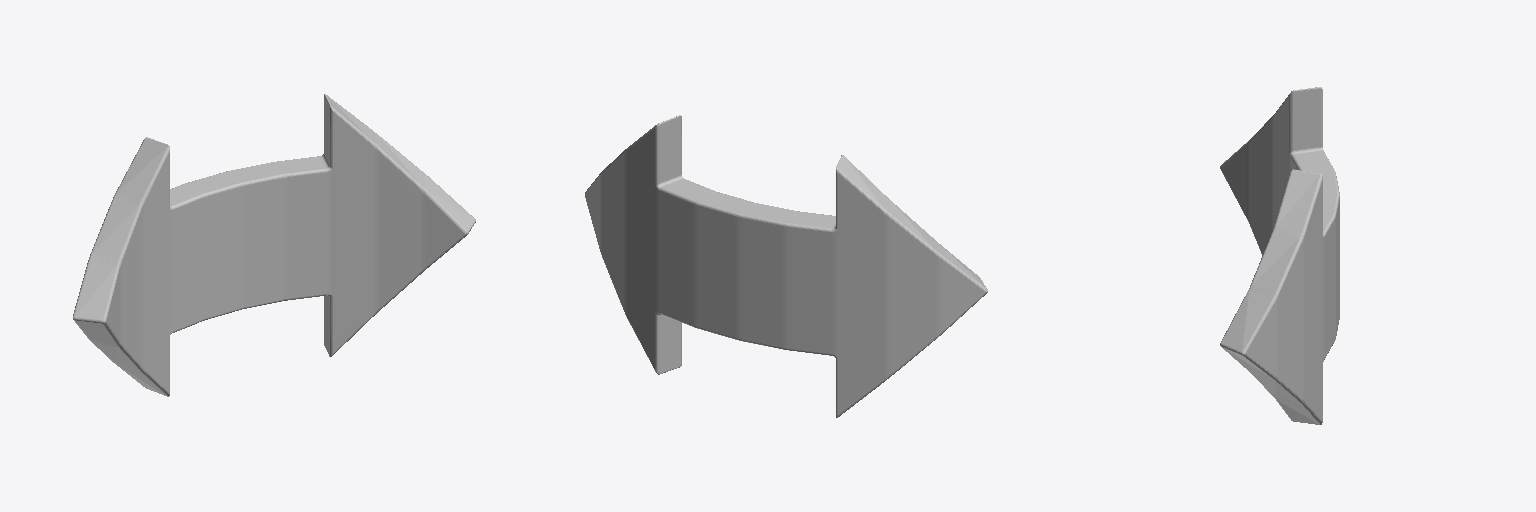
The model's file is curved double arrow.obj.
3 views of the same model, side by side, from view 1: azimuth 30°, elevation 25°; view 2: azimuth 150°, elevation 25°; view 3: azimuth 270°, elevation 25° (orthographic).
Visible parts, largest first — view 1: Vert.005; view 2: Vert.005; view 3: Vert.005.
Boxes of the visible parts, box(x1,y1,x2,y2) form: Vert.005: box(73, 94, 475, 396); Vert.005: box(585, 115, 987, 417); Vert.005: box(1220, 87, 1339, 424).
Bounding box in the file's own units: 19.92 × 11.91 × 5.14.